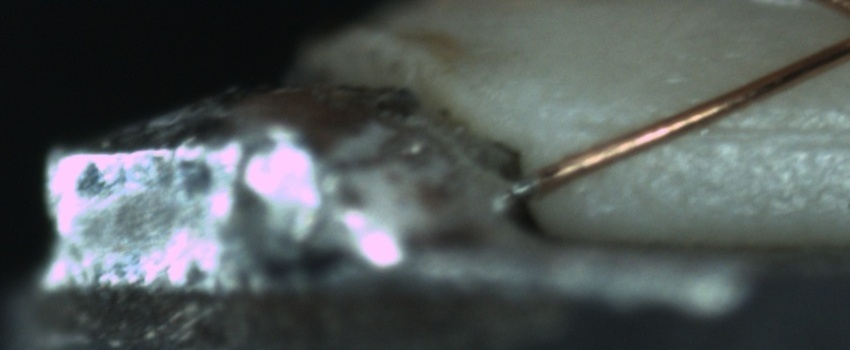DL: (556, 100, 849, 161)
